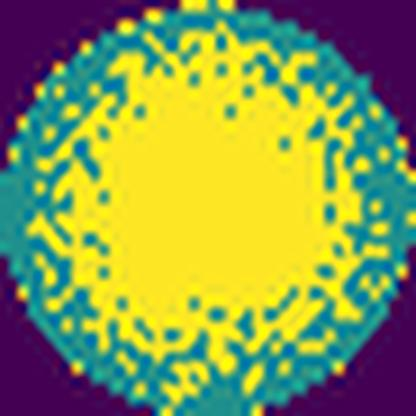Center: (69, 22, 364, 356)
